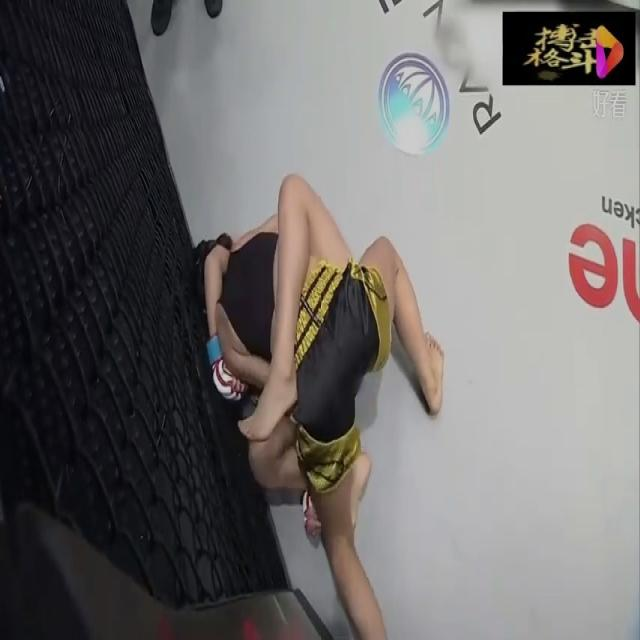fight: (194, 173, 445, 640)
